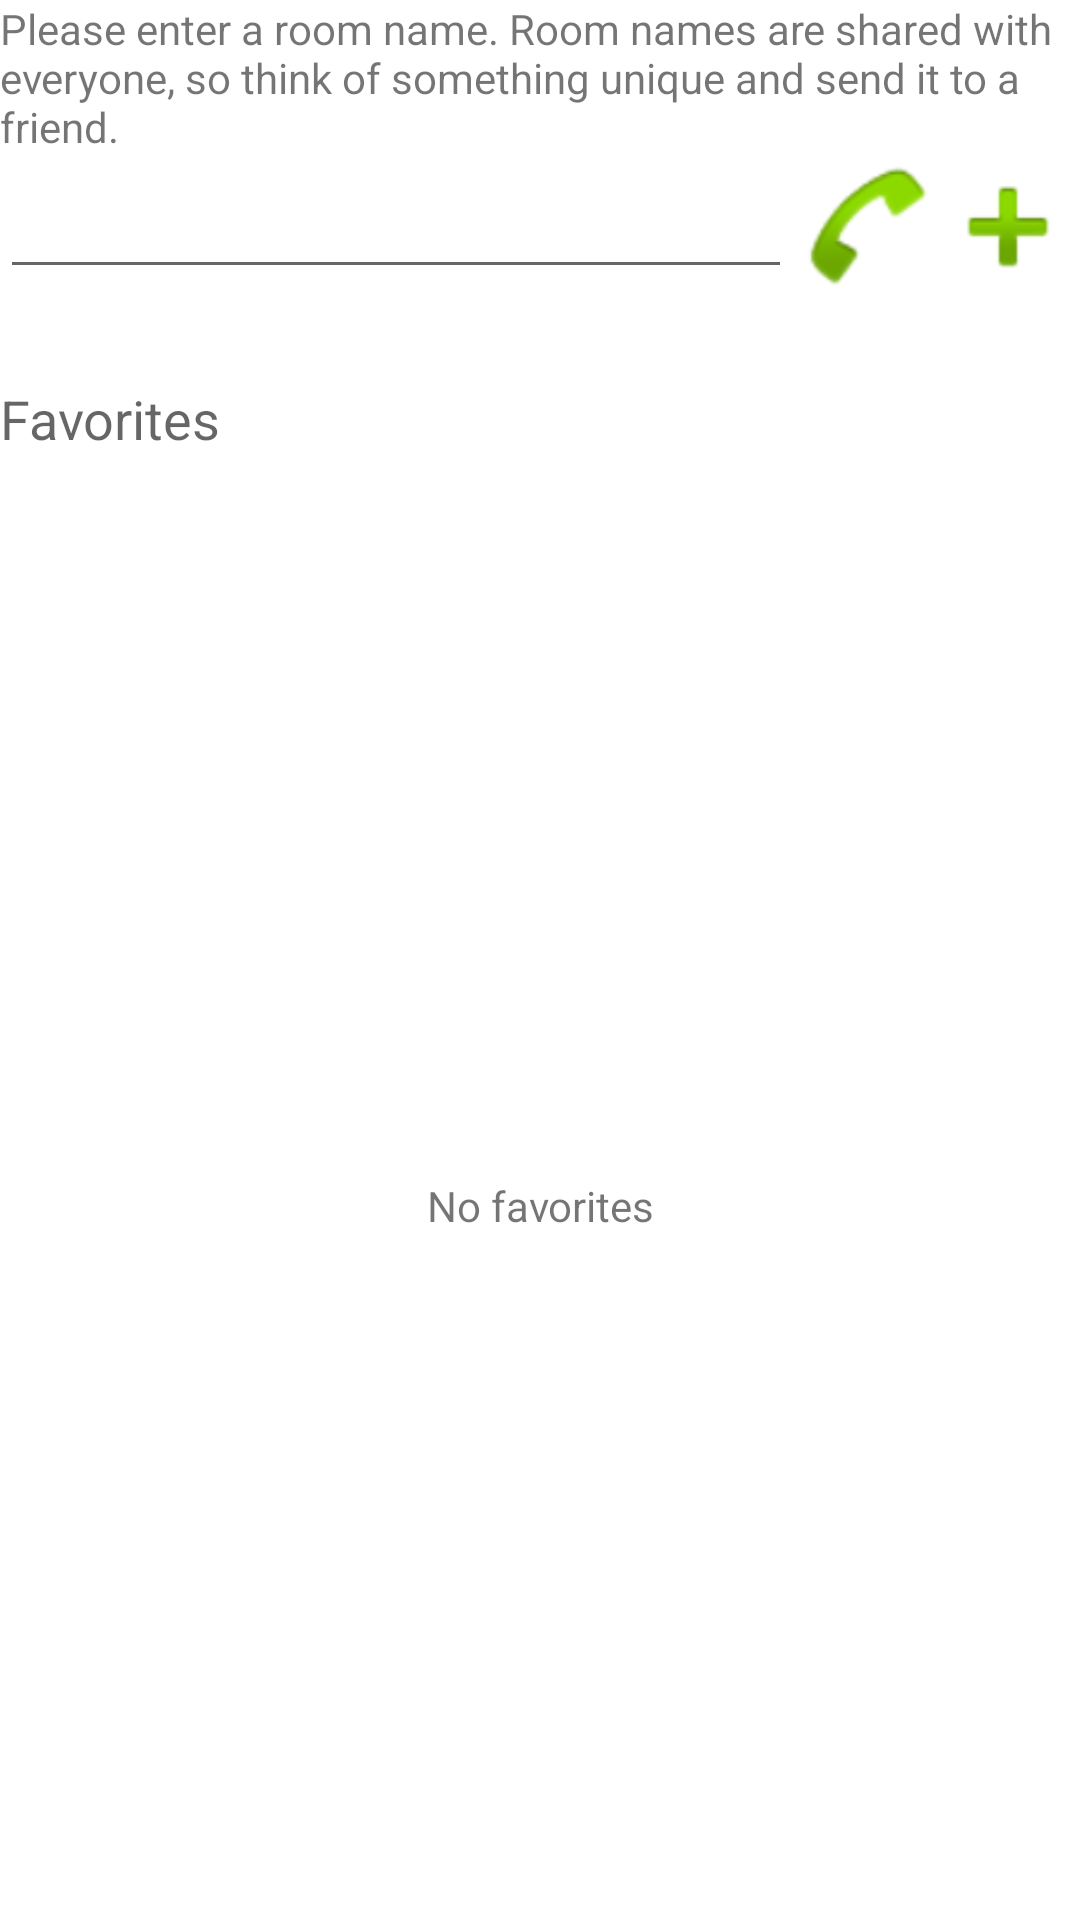

Icon click points for this 1080 x 1920 phone screenshot, format [x,y]:
Add favorite: [1008,227]
Connect to the room: [868,226]
